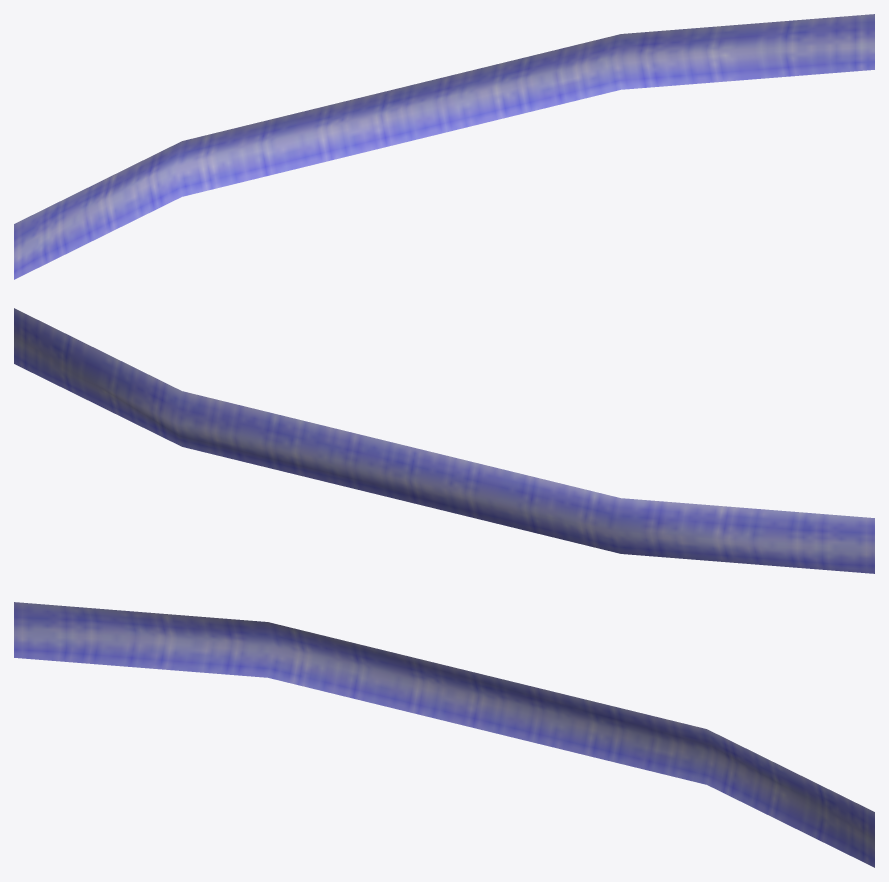
Rendered from yt1300_booster_s02_on_l1.fbx.
3 renders of one model, top to bottom at view 1: azimuth 30°, elevation 25°; view 2: azimuth 150°, elevation 25°; view 3: azimuth 330°, elevation 25°, orthographic.
Parts seen in each view (by area): view 1: mesh_node; view 2: mesh_node; view 3: mesh_node.
Boxes of the visible parts, box(x1,y1,x2,y2) form: mesh_node: box(14, 14, 874, 279); mesh_node: box(14, 308, 874, 573); mesh_node: box(14, 602, 874, 867).
Bounding box in the file's own units: 7.97 × 0.4934 × 0.7821.
1 material, 1 textured.
